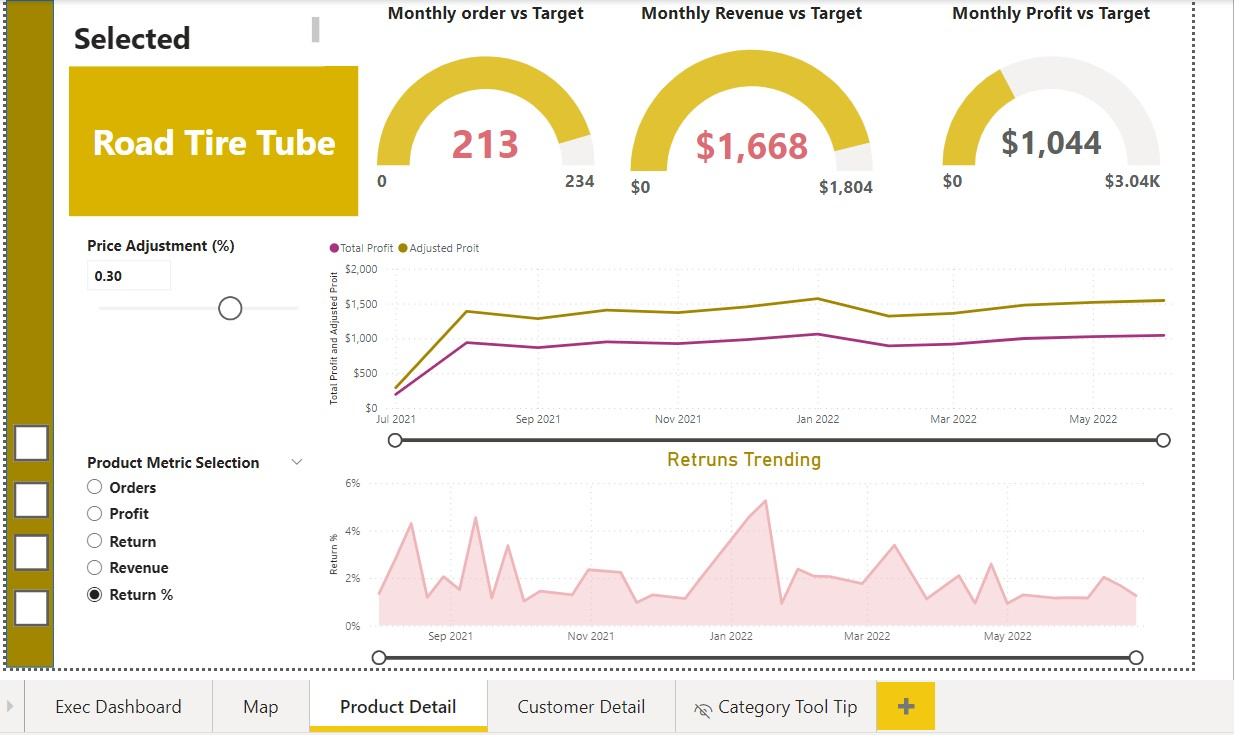

This screenshot's page, from the dashboard's own definition file:
{"tool":"powerbi","page":{"name":"Product Detail","canvas":[1280,720],"ordinal":2},"visuals":[{"type":"actionButton","box":[8.3,458.3,38.3,40],"z":0,"group":"g1"},{"type":"gauge","title":"Monthly order vs Target","fields":{"Y":["Measure Table.Total Orders"],"MaxValue":["Measure Table.Order Target"]},"box":[395,0,245,248.3],"z":0},{"type":"gauge","title":"Monthly Revenue  vs Target","fields":{"Y":["Measure Table.Total Revenue"],"MaxValue":["Measure Table.Revenue Target"]},"box":[668.2,0,271.8,247.6],"z":1000},{"type":"actionButton","box":[8.3,520,38.3,40],"z":1000,"group":"g1"},{"type":"gauge","title":"Monthly Profit vs Target","fields":{"Y":["Measure Table.Total Profit"],"MaxValue":["Measure Table.99 Days Rolling Profit"]},"box":[1005,0,245,248.3],"z":2000},{"type":"actionButton","box":[8.3,576.6,38.3,40],"z":2000,"group":"g1"},{"type":"actionButton","box":[8.3,636.6,38.3,40],"z":3000,"group":"g1"},{"type":"lineChart","title":" Profit Trending","fields":{"Category":["Calendar Lookup.Date Hierarchy.Start of Year","Calendar Lookup.Date Hierarchy.Start of Month","Calendar Lookup.Date Hierarchy.Start of Week","Calendar Lookup.Date Hierarchy.Date"],"Y":["Measure Table.Total Profit","Measure Table.Adjusted Proit"]},"box":[343.3,248.3,936.7,238.3],"z":3000},{"type":"areaChart","title":"Retruns Trending","fields":{"Category":["Calendar Lookup.Start of Week"],"Y":["Measure Table.Return Rate"]},"box":[343.3,481.7,906.7,238.3],"z":4000},{"type":"card","fields":{"Values":["Min(Product Lookup.ProductName)"]},"box":[68.3,71.7,311.7,161.7],"z":5000},{"type":"textbox","box":[68.3,13.3,275,58.3],"z":6000},{"type":"shape","box":[0,0,51.7,720],"z":7000},{"type":"group","id":"g1","title":"Navigation","box":[8.3,458.3,38.3,218.3],"z":8000},{"type":"slicer","fields":{"Values":["Price Adjustment (%).Price Adjustment (%)"]},"box":[75,248.3,263.3,165],"z":8001},{"type":"slicer","fields":{"Values":["Product Metric Selection.Product Metric Selection"]},"box":[75,481.7,258.3,188.3],"z":8002}]}

Visuals, with their boxes on the page's 1280x720 design canvas (x1, y1, x2, y2). These are canvas units, not pixel positions in the 1234x735 screenshot, which may show the page scaled, cropped or inside an application window:
actionButton: [8,458,47,498]
"Monthly order vs Target" gauge: [395,0,640,248]
"Monthly Revenue  vs Target" gauge: [668,0,940,248]
actionButton: [8,520,47,560]
"Monthly Profit vs Target" gauge: [1005,0,1250,248]
actionButton: [8,577,47,617]
actionButton: [8,637,47,677]
" Profit Trending" lineChart: [343,248,1280,487]
"Retruns Trending" areaChart: [343,482,1250,720]
card - Min(Product Lookup.ProductName): [68,72,380,233]
textbox: [68,13,343,72]
shape: [0,0,52,720]
"Navigation" group: [8,458,47,677]
slicer - Price Adjustment (%).Price Adjustment (%): [75,248,338,413]
slicer - Product Metric Selection.Product Metric Selection: [75,482,333,670]
